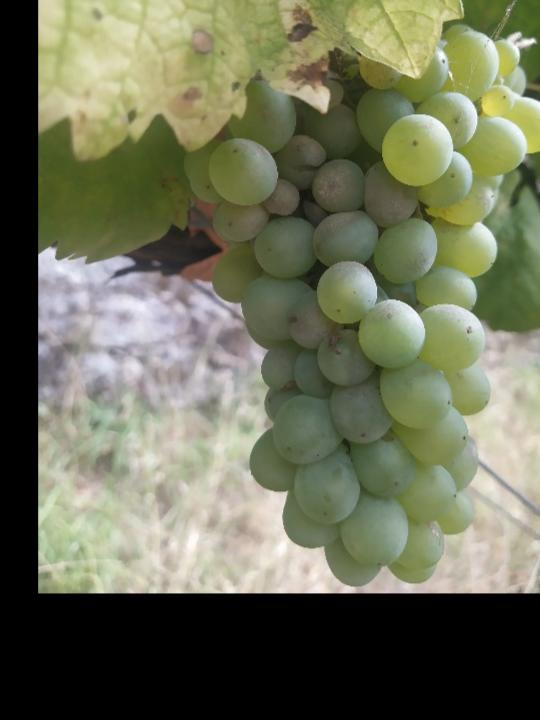grape: (183, 25, 540, 585)
